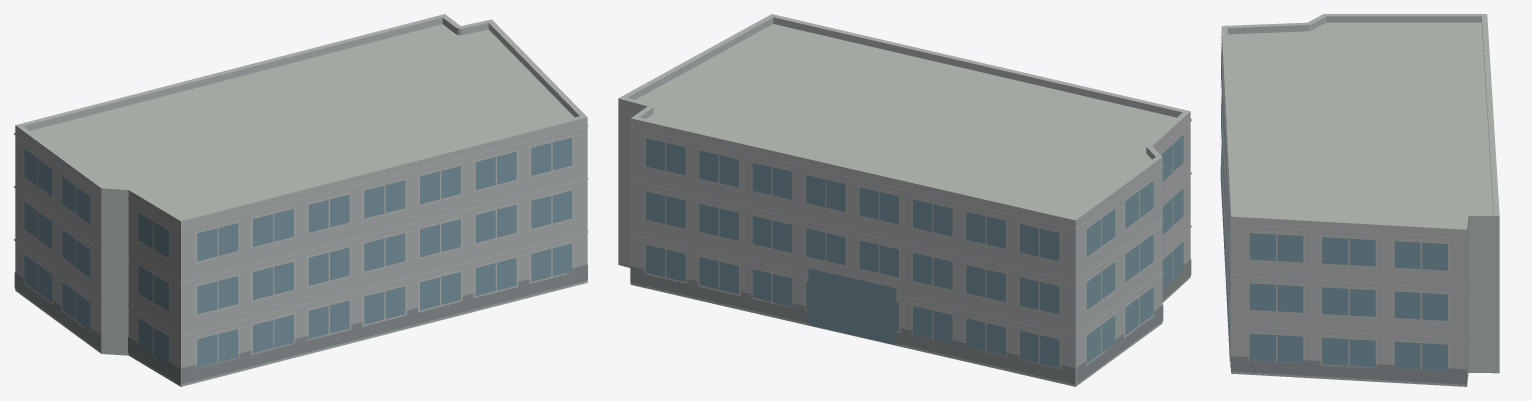
The model's file is public-4343ad2d-4181-493f-98f4-1295520507f0.glb.
3 renders of one model, left to right at view 1: azimuth 30°, elevation 25°; view 2: azimuth 150°, elevation 25°; view 3: azimuth 270°, elevation 25°, orthographic. The views are drawn at different scales.
Parts seen in each view (by area): view 1: public-4343ad2d-4181-493f-98f4-1295520507f0; view 2: public-4343ad2d-4181-493f-98f4-1295520507f0; view 3: public-4343ad2d-4181-493f-98f4-1295520507f0.
Part boxes in pixels (x1,y1,x2,y2): public-4343ad2d-4181-493f-98f4-1295520507f0: (14,14,588,386); public-4343ad2d-4181-493f-98f4-1295520507f0: (618,14,1191,386); public-4343ad2d-4181-493f-98f4-1295520507f0: (1220,14,1499,386).
Size of the model in its own units: 27.09 by 9.15 by 15.69.
